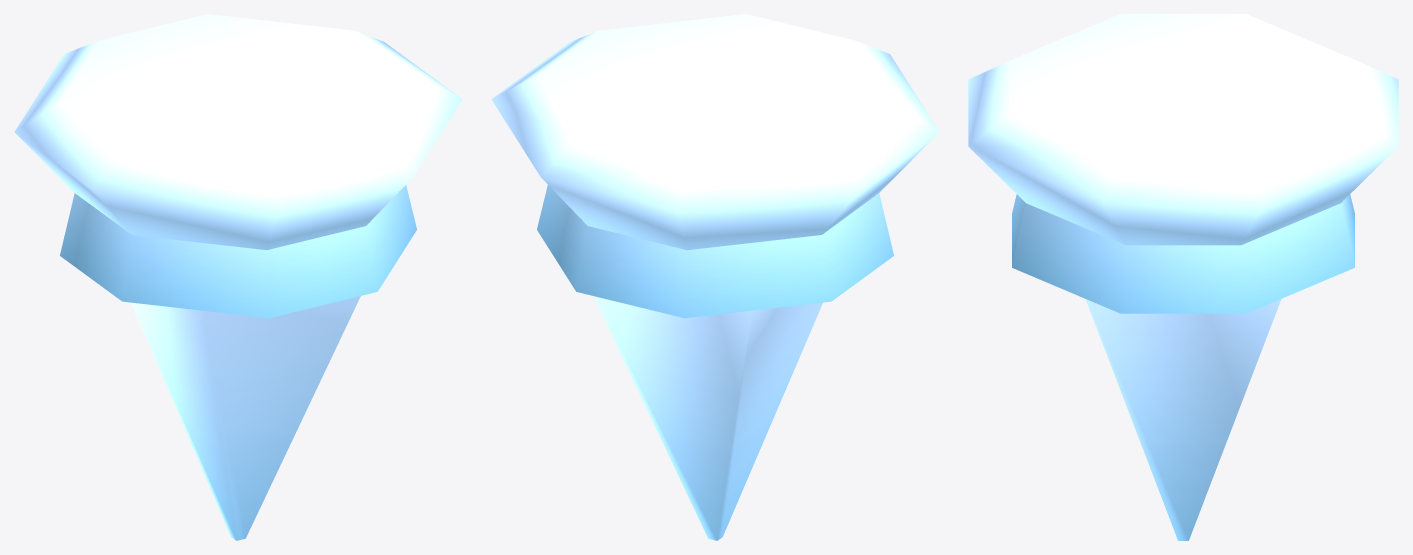
File: steel_pommel_084.glb
The picture shows the model from 3 angles, left to right: view 1: azimuth 30°, elevation 25°; view 2: azimuth 150°, elevation 25°; view 3: azimuth 270°, elevation 25°; orthographic projection.
Visible parts, largest first — view 1: steel_pommel_084; view 2: steel_pommel_084; view 3: steel_pommel_084.
Part boxes in pixels (<box>): steel_pommel_084: <box>14,14,462,540</box>; steel_pommel_084: <box>491,14,939,540</box>; steel_pommel_084: <box>968,14,1398,540</box>.
Bounding box in the file's own units: 1.7 × 1.97 × 1.7.
1 material, 1 textured.
